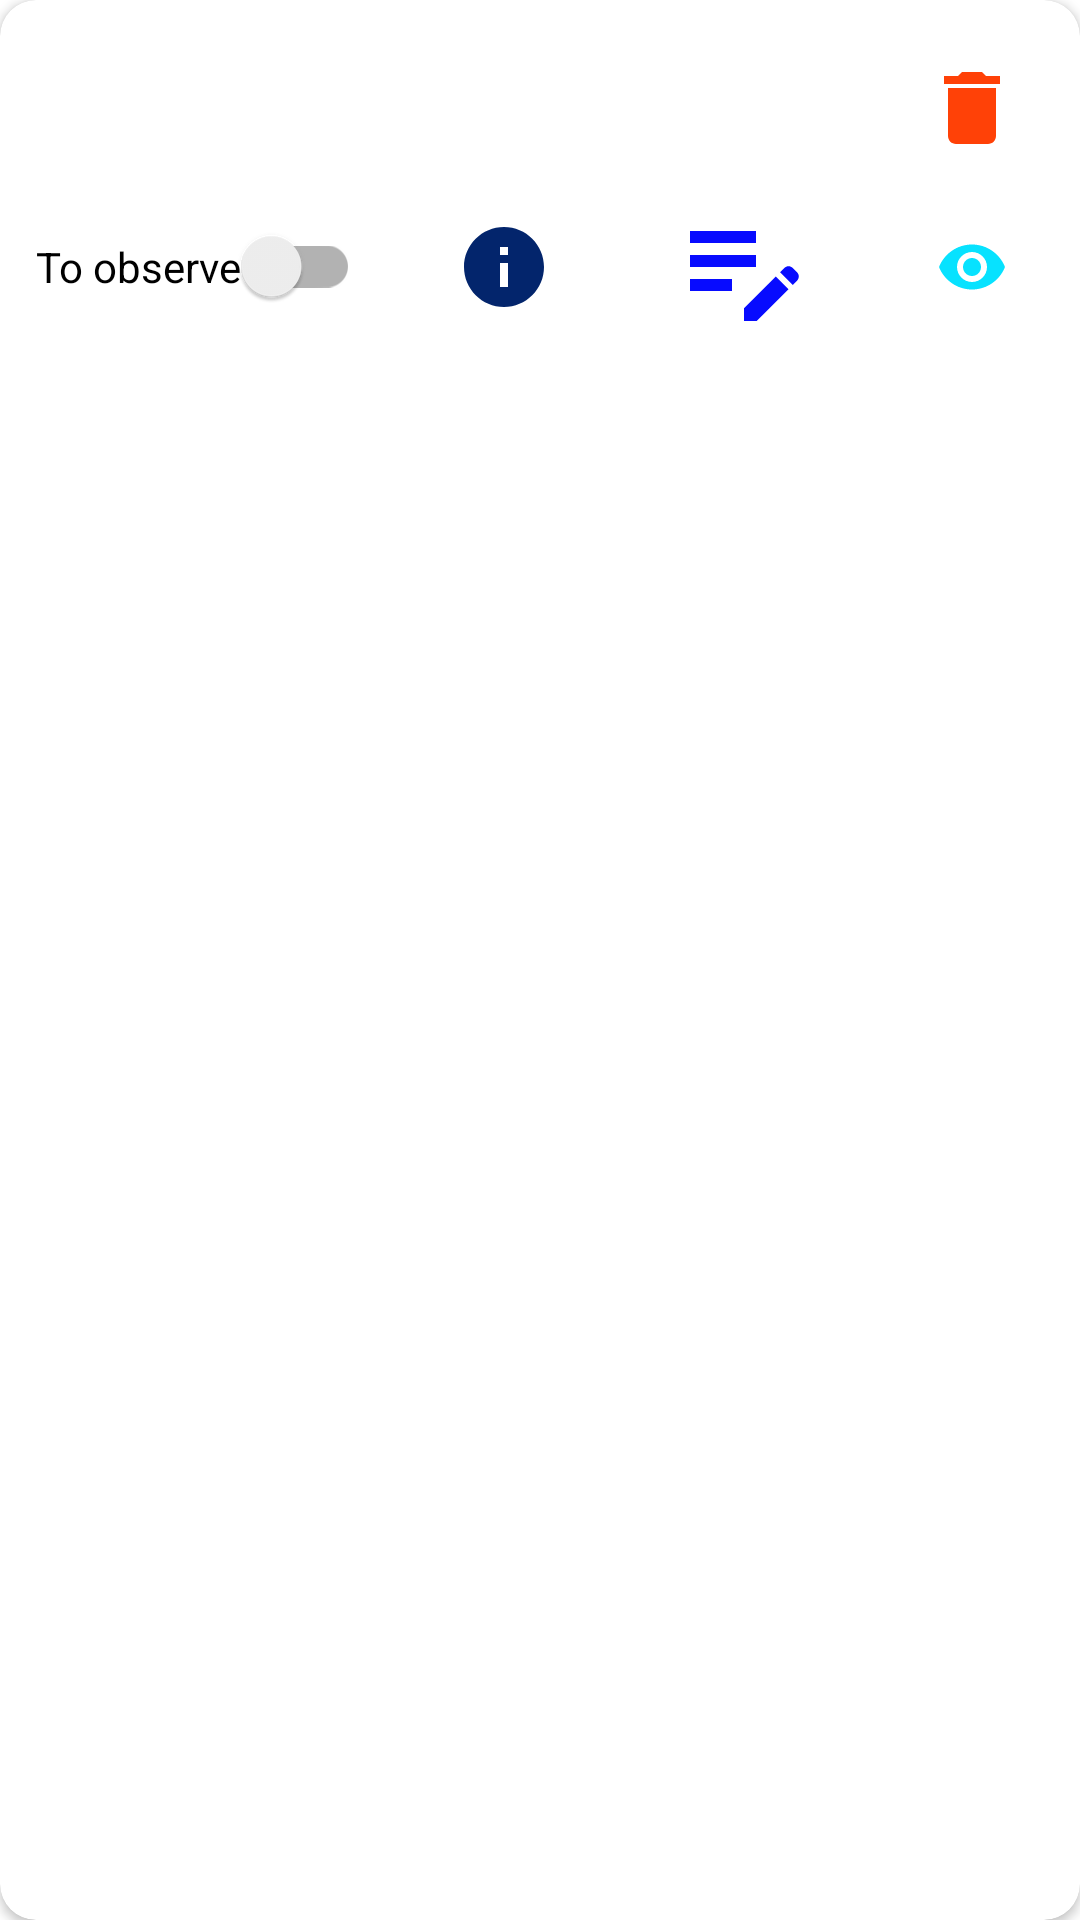

Named icons in this screenshot (1080x1920) and their bounding boxes, [x1=x1, y1=y1, x2=x2, y2=y2]:
delete: [x1=944, y1=72, x2=1000, y2=144]
edit: [x1=690, y1=231, x2=799, y2=321]
info: [x1=464, y1=227, x2=544, y2=307]
visibility: [x1=939, y1=244, x2=1005, y2=290]
